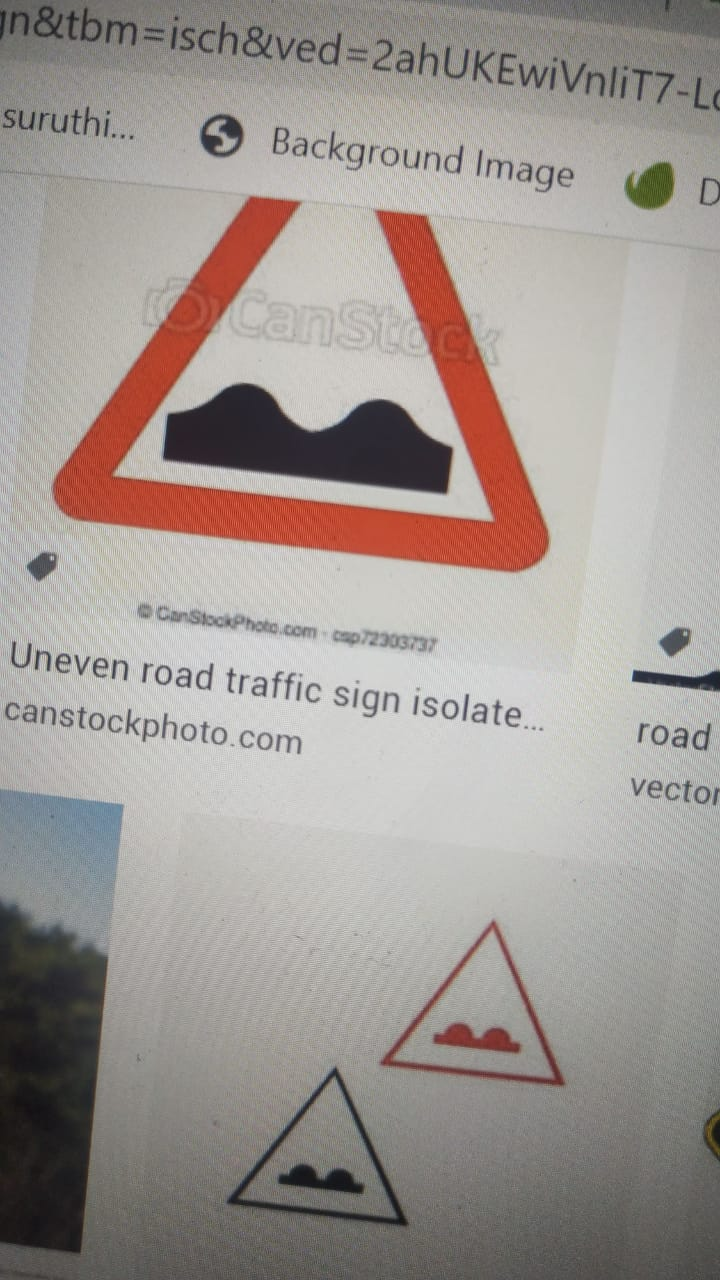UNEVEN ROAD: (12, 130, 595, 626)
